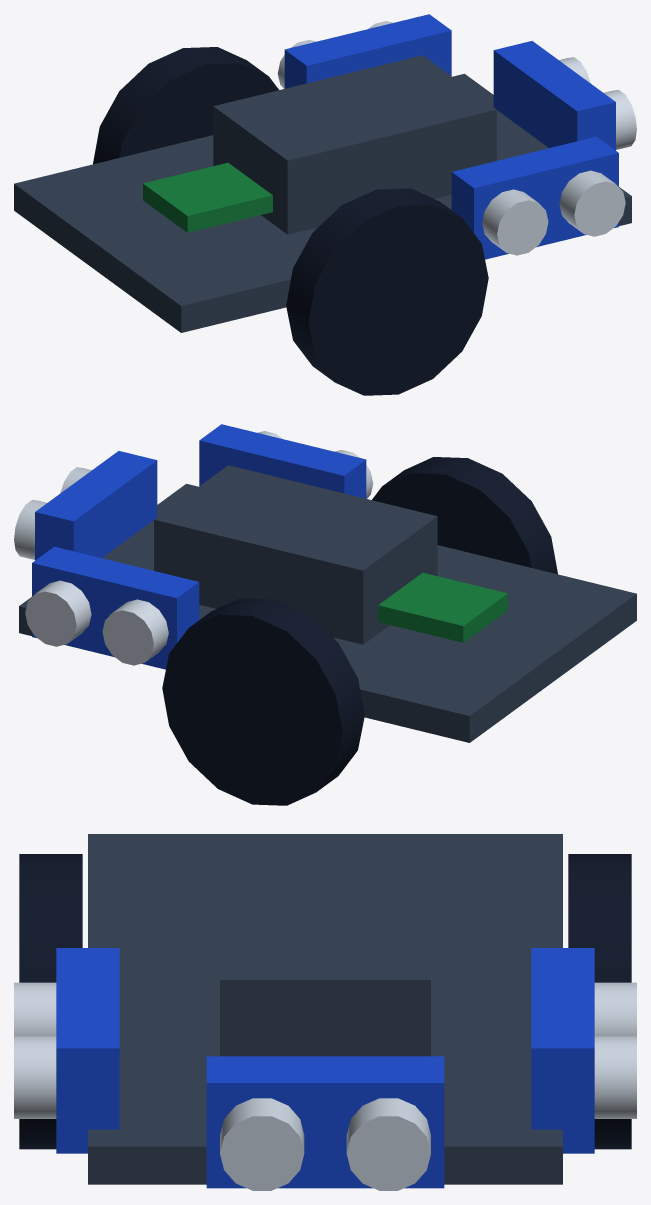
3 views of the same model, one above another, from view 1: azimuth 30°, elevation 25°; view 2: azimuth 150°, elevation 25°; view 3: azimuth 270°, elevation 25° (orthographic). The views are drawn at different scales.
Visible parts, largest first — view 1: BatteryPack, LeftTire, MazeChassis, LeftUltrasonic, RightTire, FrontUltrasonic, RightUltrasonic, NanoController; view 2: BatteryPack, RightTire, MazeChassis, RightUltrasonic, LeftTire, FrontUltrasonic, LeftUltrasonic, NanoController; view 3: MazeChassis, BatteryPack, FrontUltrasonic, LeftUltrasonic, RightUltrasonic, LeftTire, RightTire.
Boxes of the visible parts, x1=… form: BatteryPack: x1=213, y1=55, x2=496, y2=234; LeftTire: x1=286, y1=188, x2=488, y2=395; MazeChassis: x1=14, y1=73, x2=631, y2=332; LeftUltrasonic: x1=451, y1=136, x2=625, y2=259; RightTire: x1=93, y1=47, x2=278, y2=164; FrontUltrasonic: x1=493, y1=41, x2=636, y2=150; RightUltrasonic: x1=277, y1=14, x2=451, y2=88; NanoController: x1=143, y1=162, x2=272, y2=232; BatteryPack: x1=154, y1=465, x2=437, y2=644; RightTire: x1=162, y1=598, x2=364, y2=805; MazeChassis: x1=19, y1=483, x2=636, y2=742; RightUltrasonic: x1=25, y1=546, x2=199, y2=669; LeftTire: x1=372, y1=457, x2=557, y2=574; FrontUltrasonic: x1=14, y1=451, x2=157, y2=560; LeftUltrasonic: x1=199, y1=424, x2=373, y2=498; NanoController: x1=378, y1=572, x2=507, y2=642; MazeChassis: x1=88, y1=834, x2=562, y2=1184; BatteryPack: x1=220, y1=835, x2=430, y2=1056; FrontUltrasonic: x1=206, y1=1056, x2=444, y2=1190; LeftUltrasonic: x1=14, y1=948, x2=119, y2=1153; RightUltrasonic: x1=531, y1=948, x2=636, y2=1153; LeftTire: x1=19, y1=854, x2=82, y2=1149; RightTire: x1=568, y1=854, x2=631, y2=1149.
Size of the model in its own units: 1.56 by 0.57 by 1.18.
